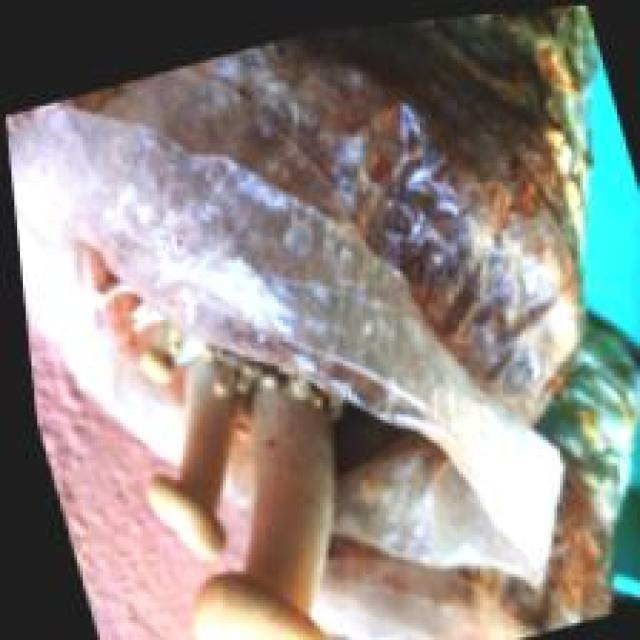death-cap: (6, 0, 640, 637)
